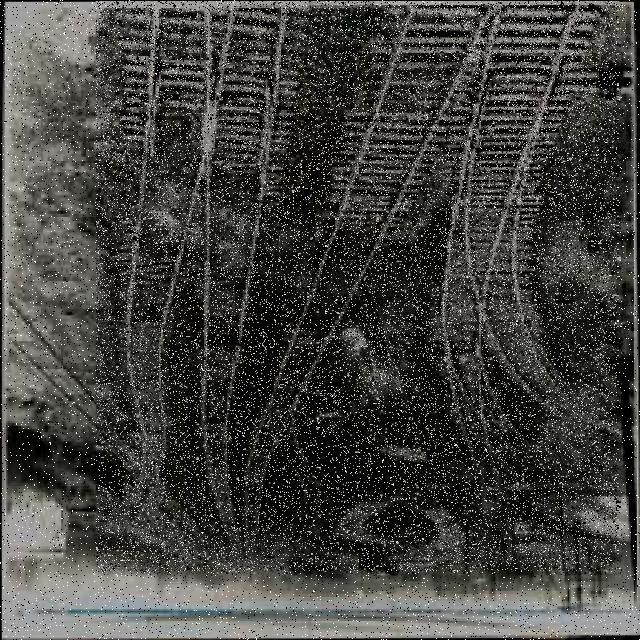rail: (98, 3, 619, 572)
